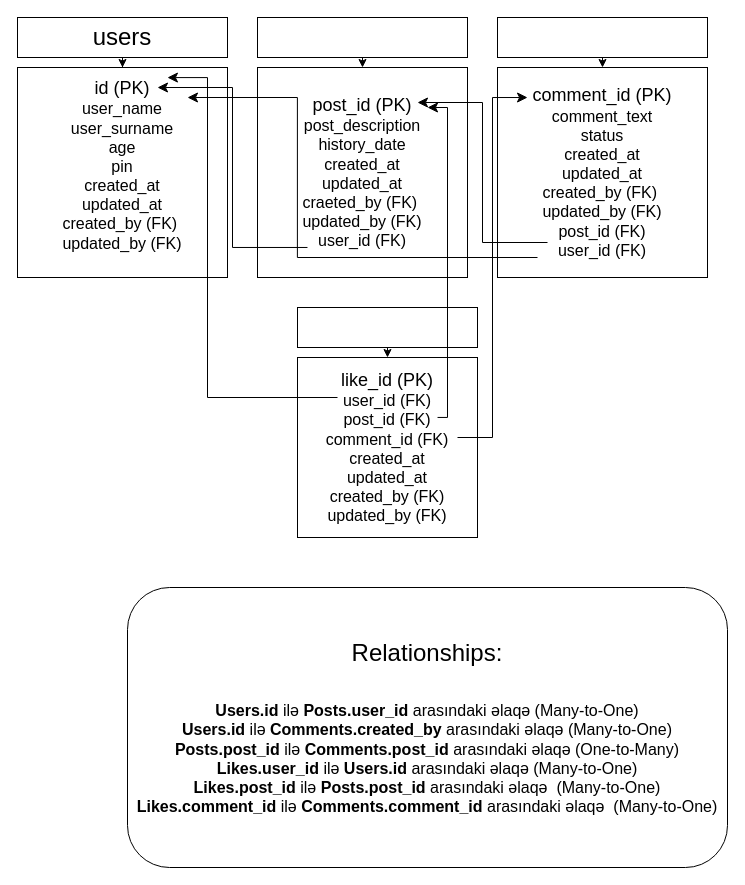
Some shapes in this 745 by 885 pixel diagram are drawn without their labels. The centre of each missing label's shape, as x and y in pixels:
comments: [602,37]
likes: [387,327]
posts: [362,37]
